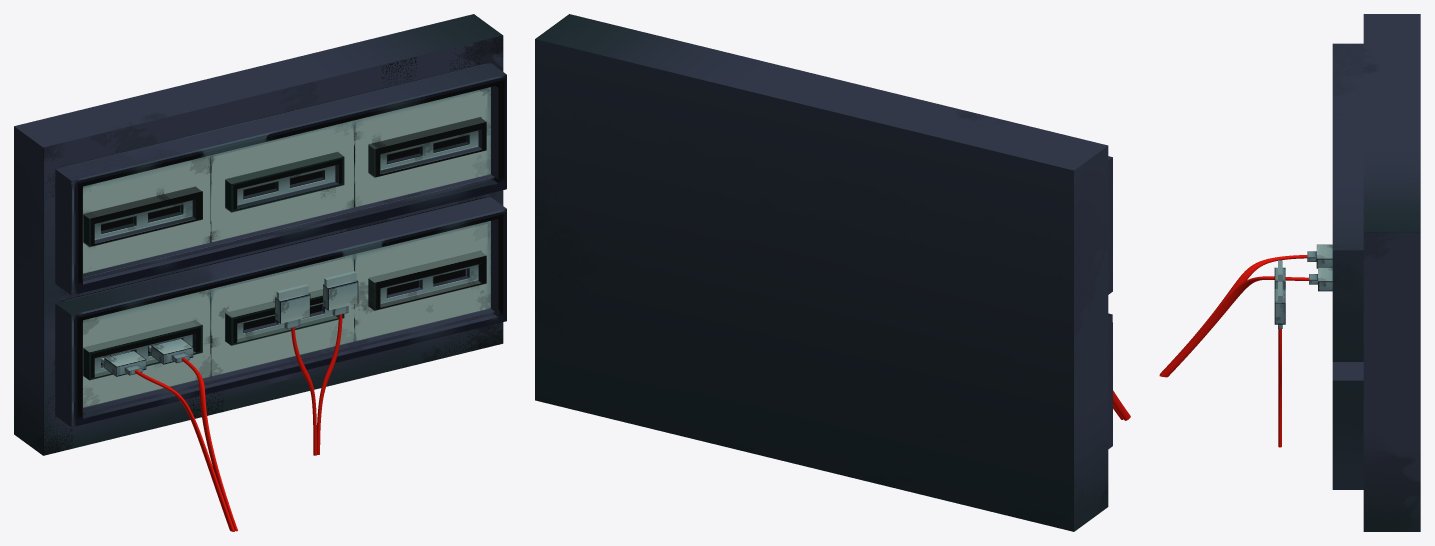
File: Wires.fbx
The picture shows the model from 3 angles, left to right: view 1: azimuth 30°, elevation 25°; view 2: azimuth 150°, elevation 25°; view 3: azimuth 270°, elevation 25°; orthographic projection. The views are drawn at different scales.
Visible parts, largest first — view 1: Panel Mesh, CableMesh.003, CableMesh.002, Wire, Wire.001, CableMesh.001, CableMesh, Wire.002, Wire.003; view 2: Panel Mesh; view 3: Panel Mesh, Wire.001, Wire, CableMesh.001, CableMesh.003, Wire.002, CableMesh.
Part boxes in pixels (box(x1,y1,x2,y2)): Panel Mesh: box(14, 14, 506, 455); CableMesh.003: box(323, 271, 358, 315); CableMesh.002: box(275, 284, 310, 328); Wire: box(134, 370, 234, 531); Wire.001: box(181, 357, 237, 531); CableMesh.001: box(101, 350, 146, 376); CableMesh: box(148, 338, 193, 364); Wire.002: box(317, 314, 342, 454); Wire.003: box(291, 327, 316, 455); Panel Mesh: box(535, 14, 1112, 531); Panel Mesh: box(1332, 14, 1420, 531); Wire.001: box(1159, 276, 1308, 377); Wire: box(1159, 255, 1307, 374); CableMesh.001: box(1307, 244, 1332, 268); CableMesh.003: box(1274, 281, 1285, 328); Wire.002: box(1278, 329, 1281, 447); CableMesh: box(1309, 267, 1332, 291).
Bounding box in the file's own units: 6961 × 4800 × 3522.
6 materials, 5 textured.
